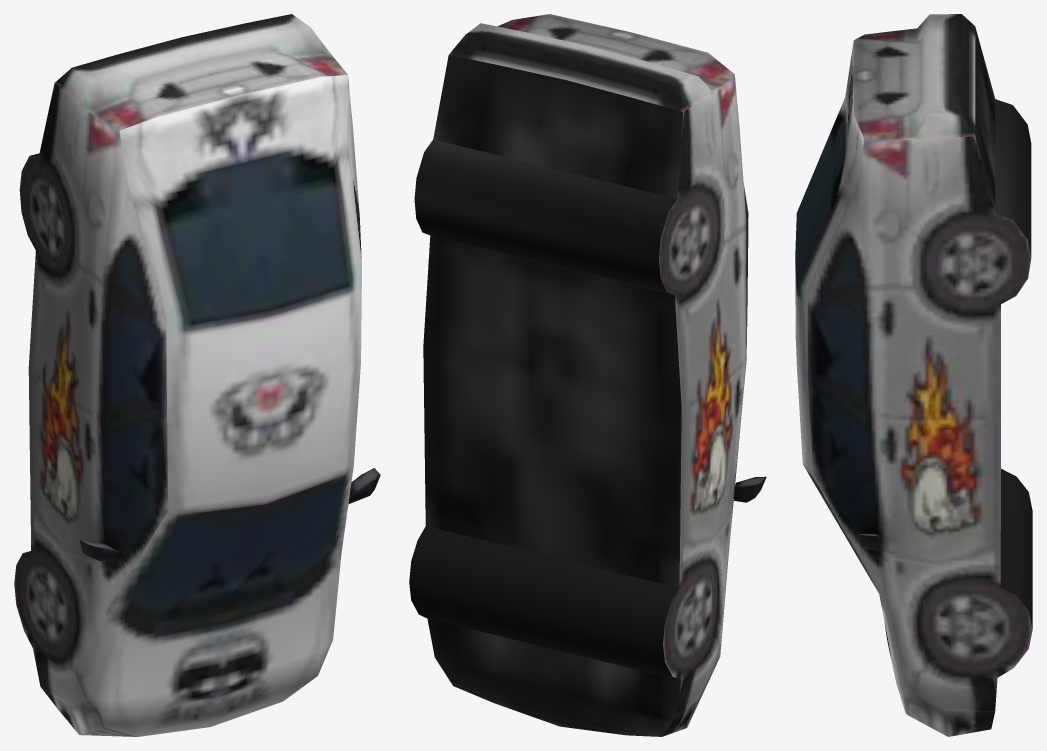
The model's file is RaceCar2_L.fbx.
3 renders of one model, left to right at view 1: azimuth 30°, elevation 25°; view 2: azimuth 150°, elevation 25°; view 3: azimuth 270°, elevation 25°, orthographic. The views are drawn at different scales.
Parts seen in each view (by area): view 1: RaceCar2_L; view 2: RaceCar2_L; view 3: RaceCar2_L.
Part boxes in pixels (<box>): RaceCar2_L: <box>14,14,380,736</box>; RaceCar2_L: <box>409,14,766,736</box>; RaceCar2_L: <box>795,14,1032,736</box>.
Size of the model in its own units: 196 by 433 by 145.
1 material, 1 textured.
